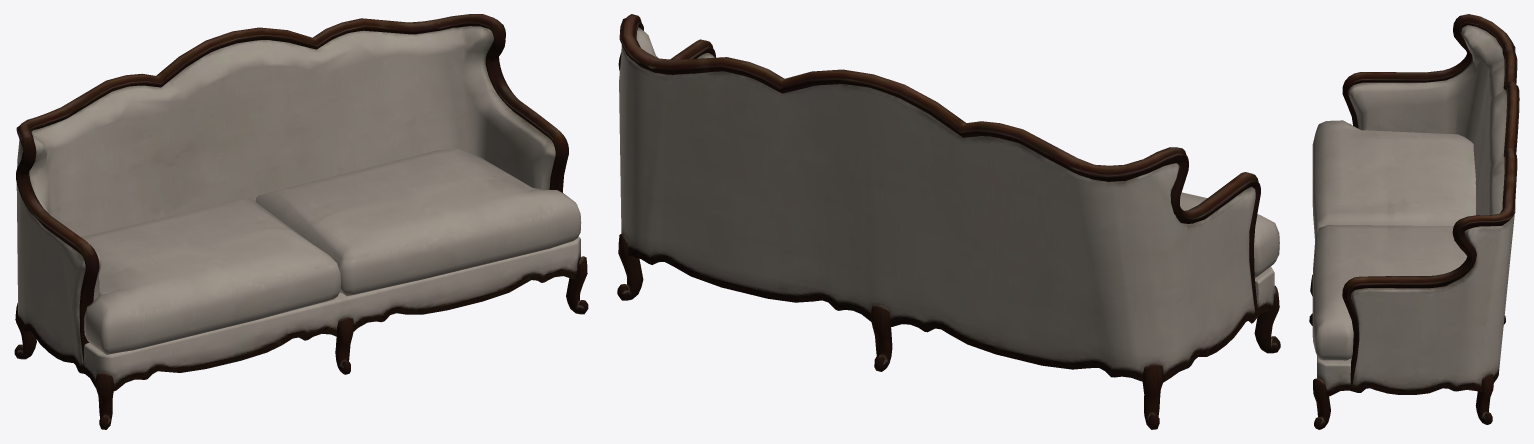
Rendered from Sofa_01.glb.
The picture shows the model from 3 angles, left to right: view 1: azimuth 30°, elevation 25°; view 2: azimuth 150°, elevation 25°; view 3: azimuth 270°, elevation 25°; orthographic projection. The views are drawn at different scales.
Visible parts, largest first — view 1: Sofa_01; view 2: Sofa_01; view 3: Sofa_01.
Boxes of the visible parts, x1,y1,x2,y2 form: Sofa_01: [14, 14, 588, 429]; Sofa_01: [617, 14, 1280, 429]; Sofa_01: [1309, 14, 1519, 429].
Bounding box in the file's own units: 1.57 × 0.7966 × 0.658.
2 materials, 2 textured.
